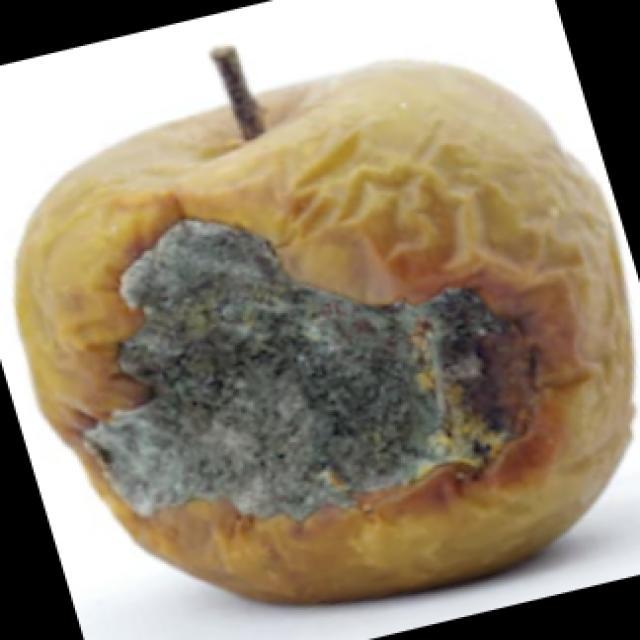Rotten: (33, 53, 630, 622)
